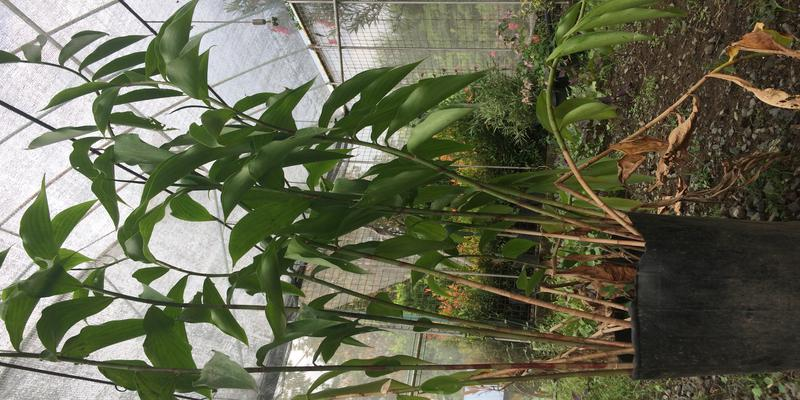Insulin: (44, 55, 637, 386)
